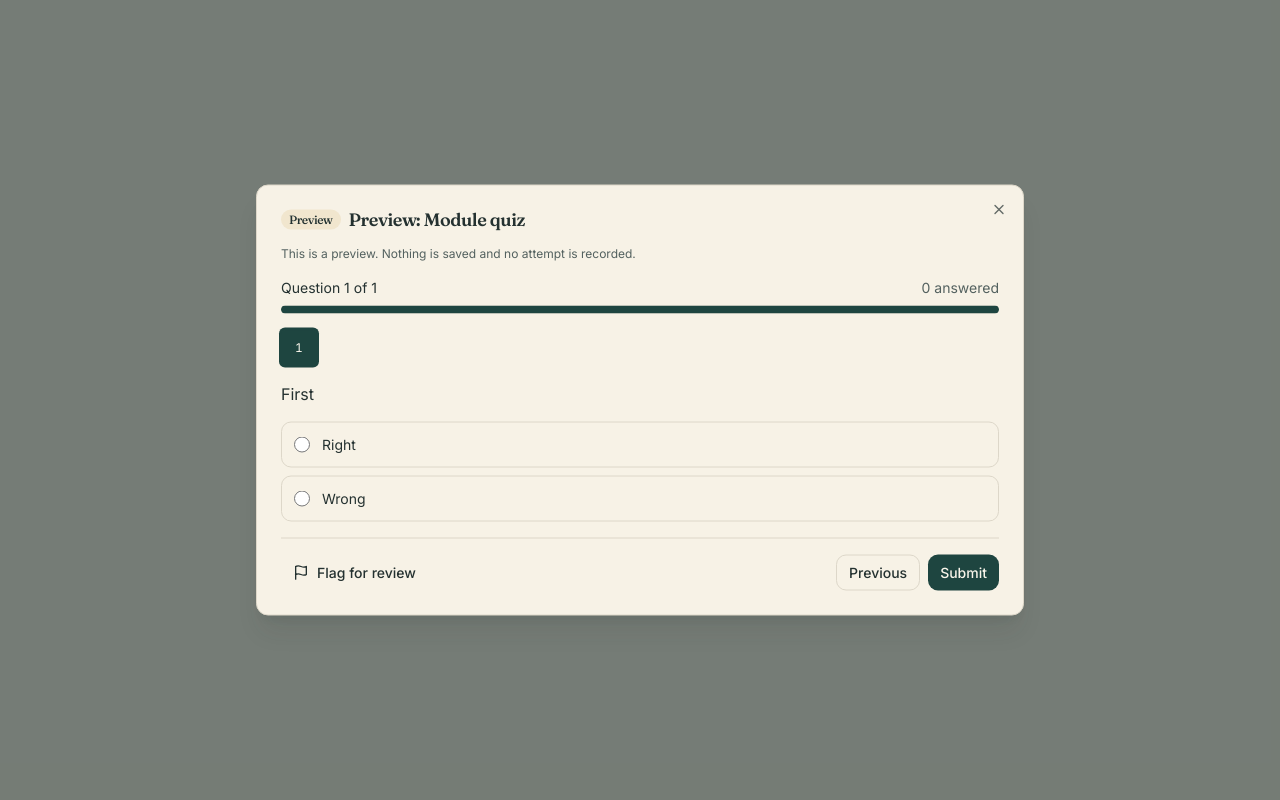
Test case: AssessmentPreview › reports a failing score against the pass mark
Click the radio button labelled "Wrong" at [302, 498], box [294,490,310,506]
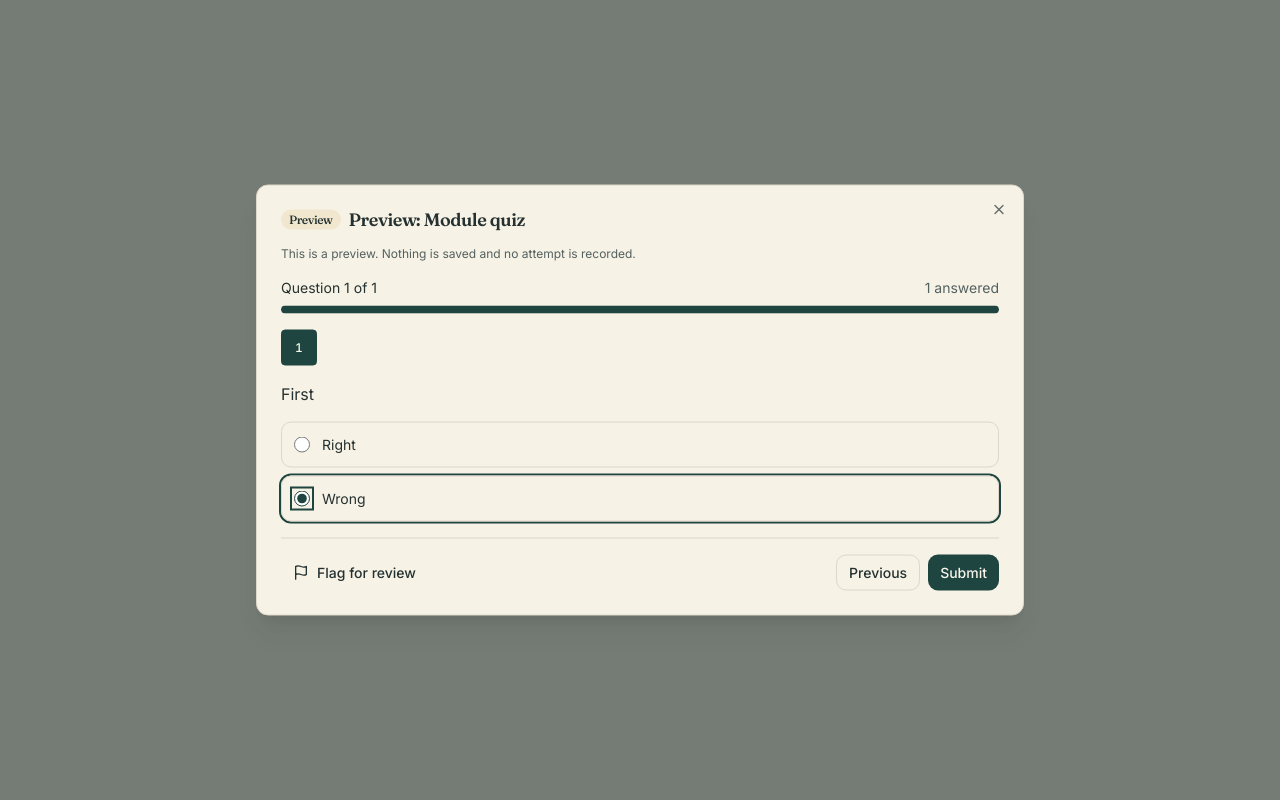
Click the button "Submit" at [964, 572], box [928,554,999,590]
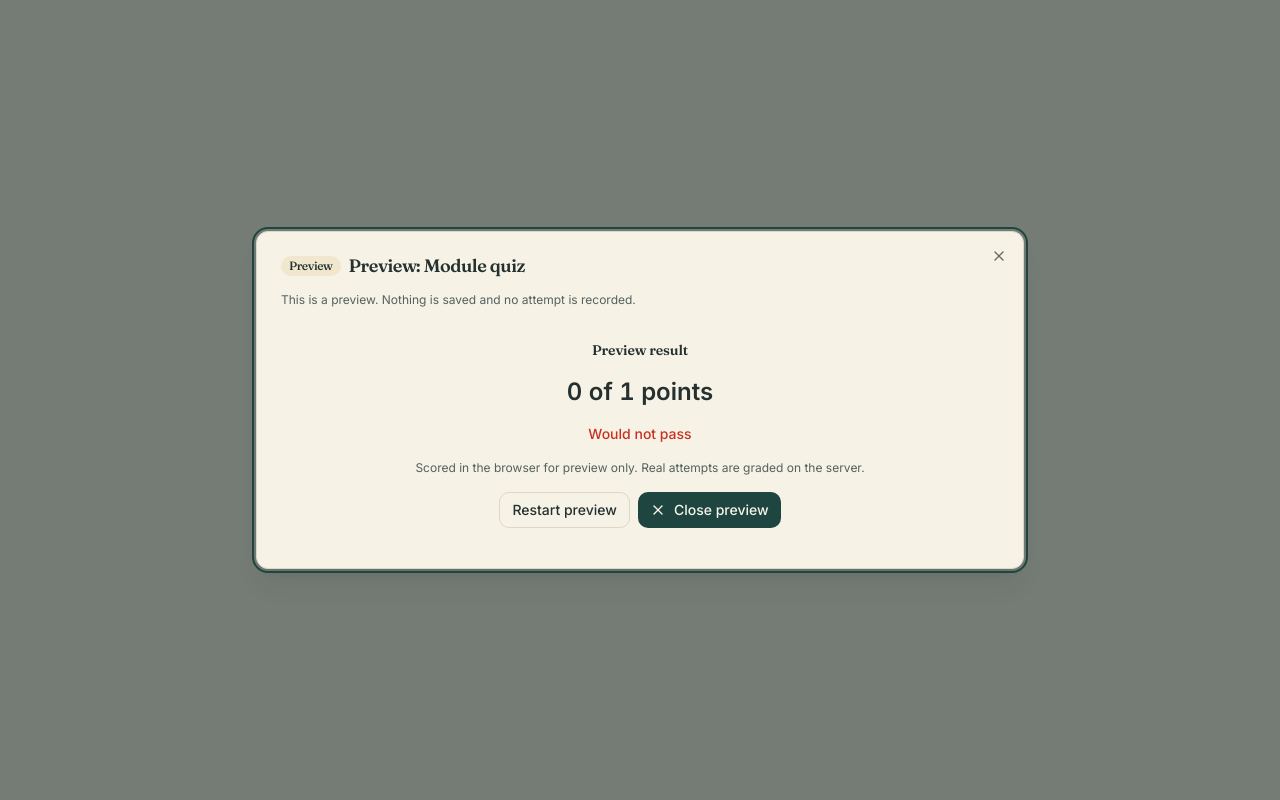
Check: the text "Would not pass" is shown, box [588,425,692,442]
